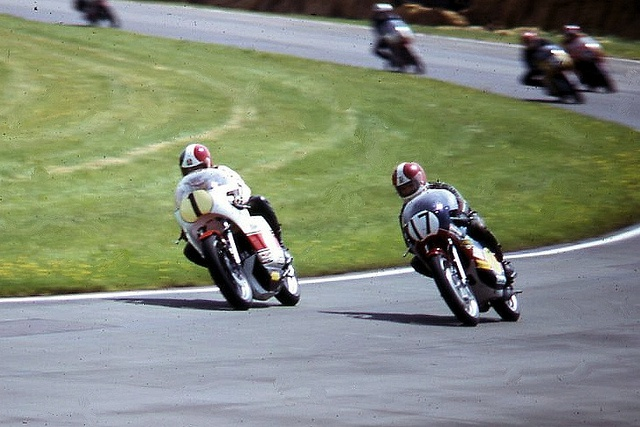non-vehicle: (174, 169, 301, 310), (396, 191, 526, 320), (518, 32, 587, 95), (561, 34, 619, 93), (379, 16, 422, 71), (79, 0, 122, 30)
